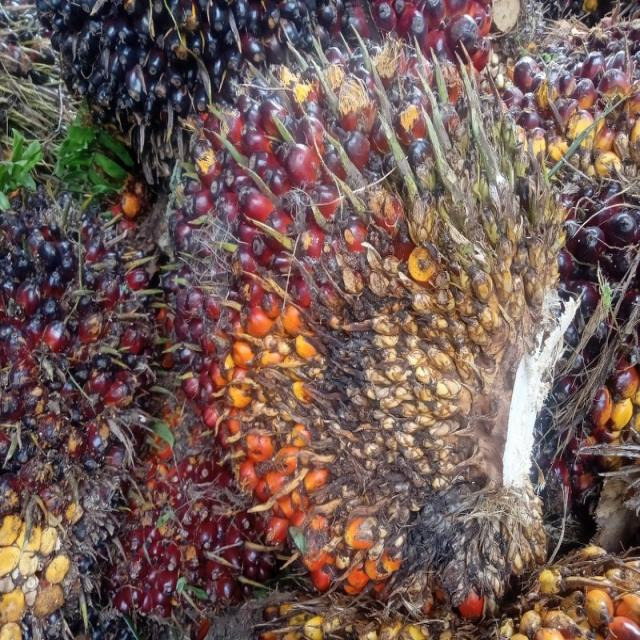fraksi 1: (153, 0, 629, 638)
